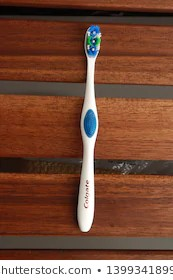toothbrush: (72, 22, 109, 235)
